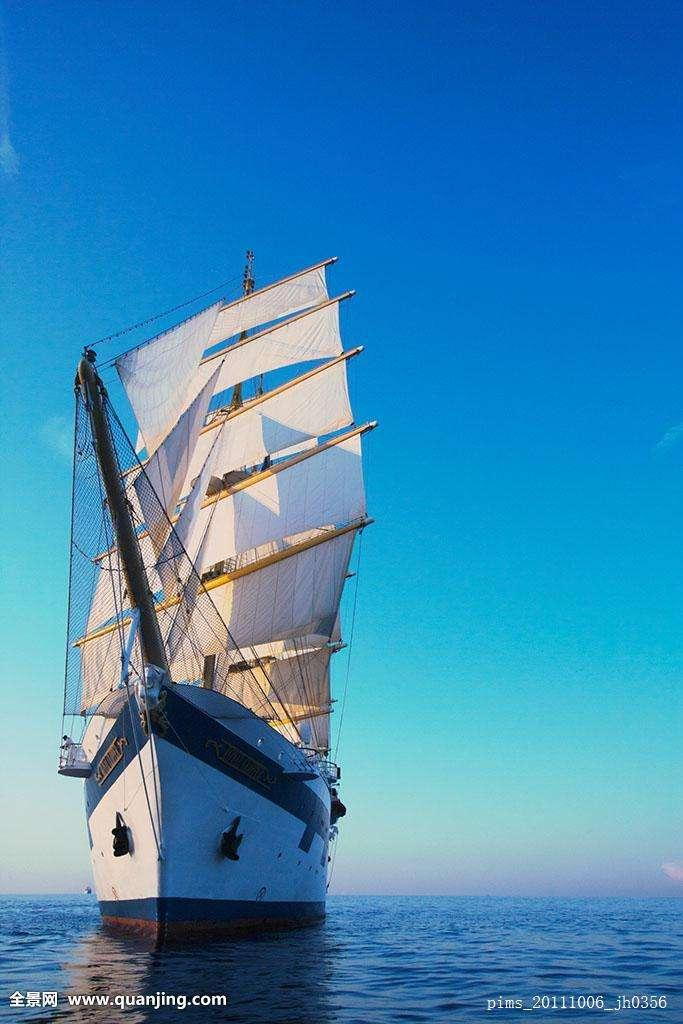fanchuan: (39, 246, 380, 945)
